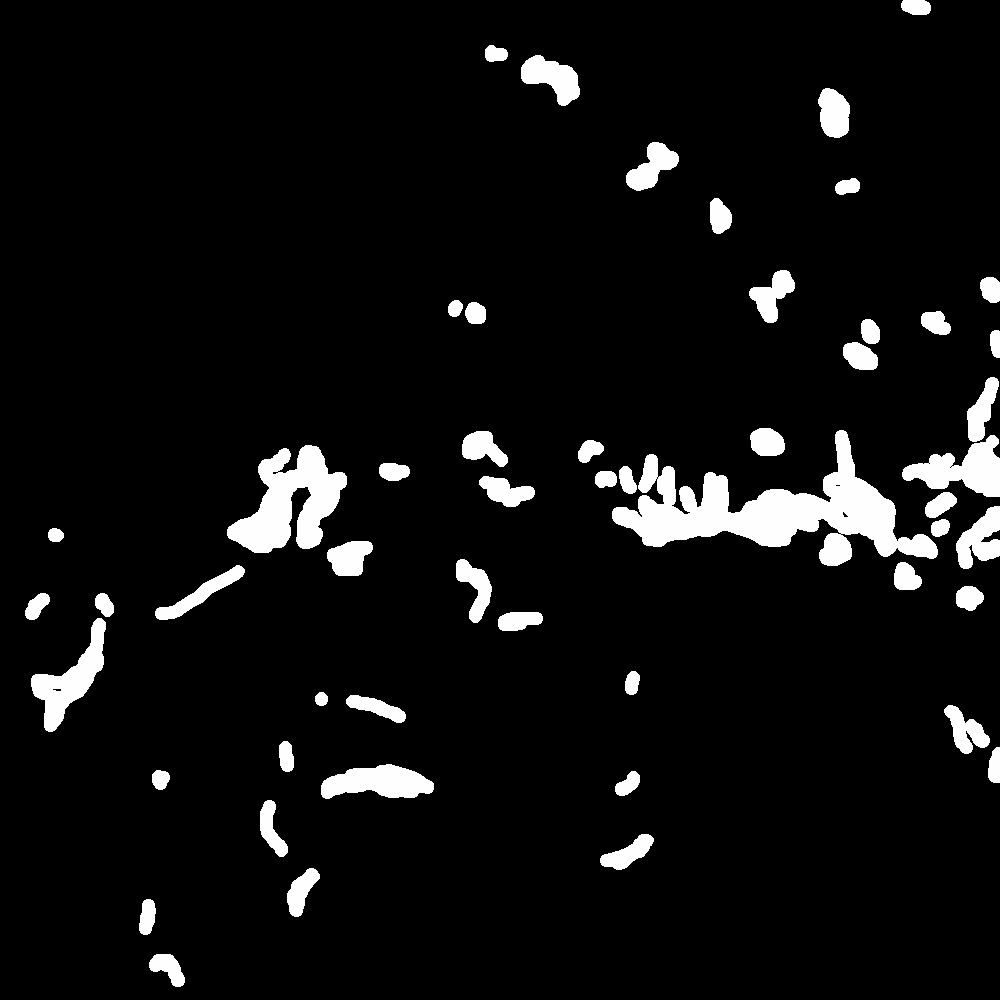illegal: (151, 437, 414, 618), (9, 514, 150, 729), (920, 270, 1000, 648), (635, 461, 906, 567), (461, 427, 647, 545), (751, 403, 858, 476), (813, 87, 859, 196), (945, 698, 1000, 780), (285, 693, 338, 775), (350, 763, 449, 805), (131, 887, 172, 968), (524, 54, 587, 106), (457, 556, 501, 626), (442, 288, 487, 326), (288, 861, 320, 912), (352, 694, 407, 723), (849, 324, 884, 367), (754, 275, 793, 310), (649, 143, 681, 168), (144, 768, 176, 793), (708, 207, 733, 237), (906, 1, 930, 17)
